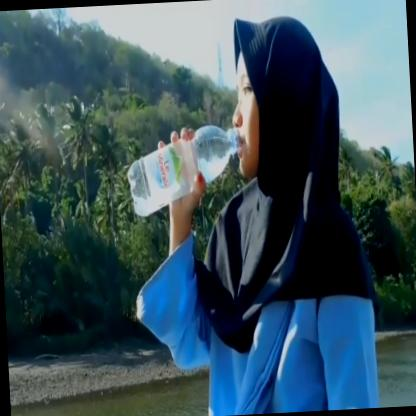plastic_bottles: (119, 117, 248, 222)
